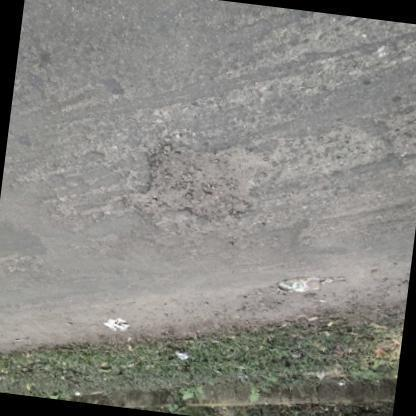pothole: (123, 138, 276, 224)
